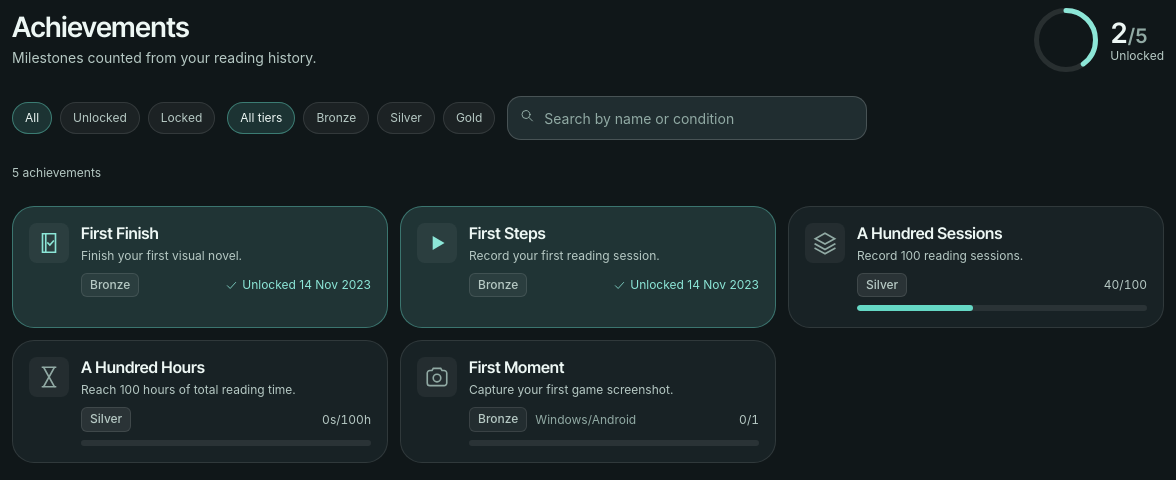
it: achievements screen › shows a distinct no-match state with a clear-filters action
expect the picture named "2 of 5 unlocked" is shown: met, box [1034, 8, 1098, 72]
In the search field named "Search achievements": (687, 118) [507, 96, 867, 140], type "zzzz-no-match"
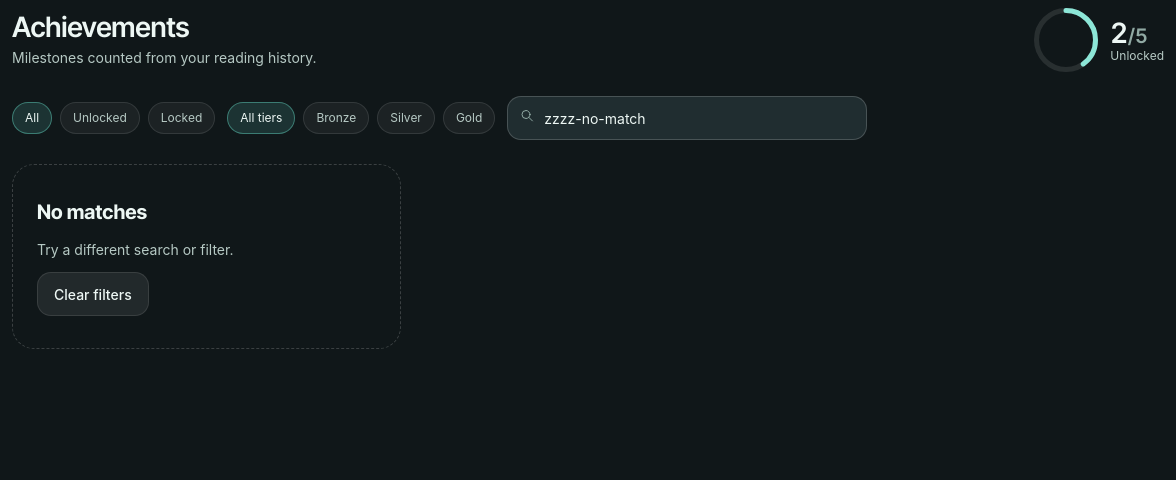
expect no elements with class "ach-card" are shown: met
expect the heading "No matches" is shown: met, box [37, 197, 147, 227]
Click the button "Clear filters": (93, 294) [37, 272, 149, 316]
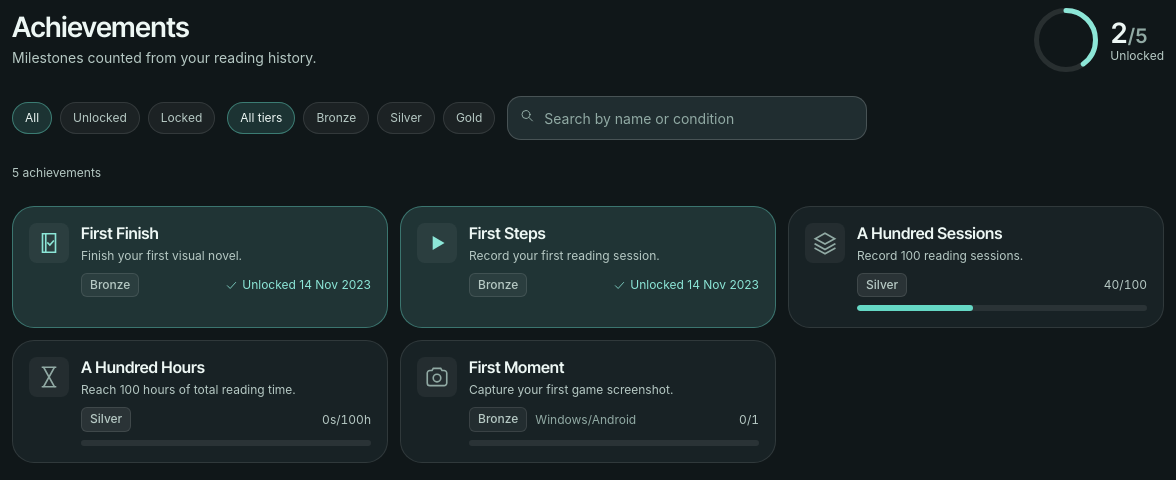
expect the number of elements with class "ach-card" is 5: met, box [12, 206, 388, 328]; [400, 206, 776, 328]; [788, 206, 1164, 328]; [12, 340, 388, 463]; [400, 340, 776, 463]
